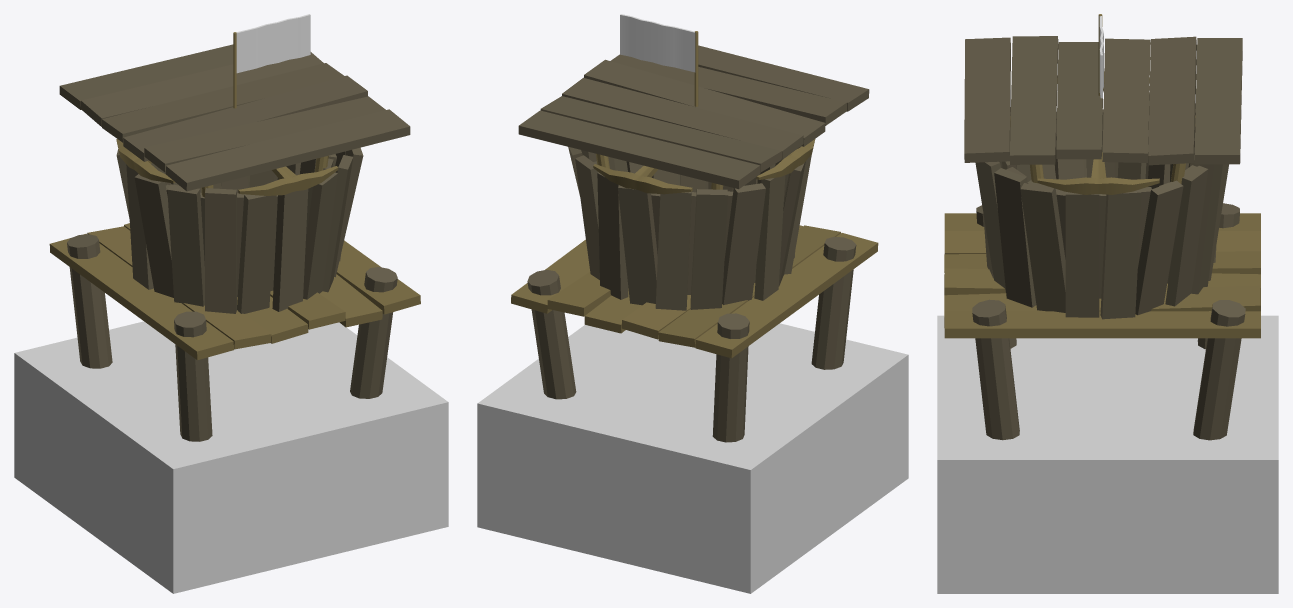
File: CompleteArcherTowerV01Combined.fbx
3 renders of one model, left to right at view 1: azimuth 30°, elevation 25°; view 2: azimuth 150°, elevation 25°; view 3: azimuth 270°, elevation 25°, orthographic. The views are drawn at different scales.
Visible parts, largest first — view 1: CompleteArcherTowerV01Combined; view 2: CompleteArcherTowerV01Combined; view 3: CompleteArcherTowerV01Combined.
Boxes of the visible parts, x1,y1,x2,y2 form: CompleteArcherTowerV01Combined: (14, 14, 448, 593); CompleteArcherTowerV01Combined: (477, 14, 908, 593); CompleteArcherTowerV01Combined: (937, 14, 1278, 593).
Bounding box in the file's own units: 4 × 6.56 × 4.
